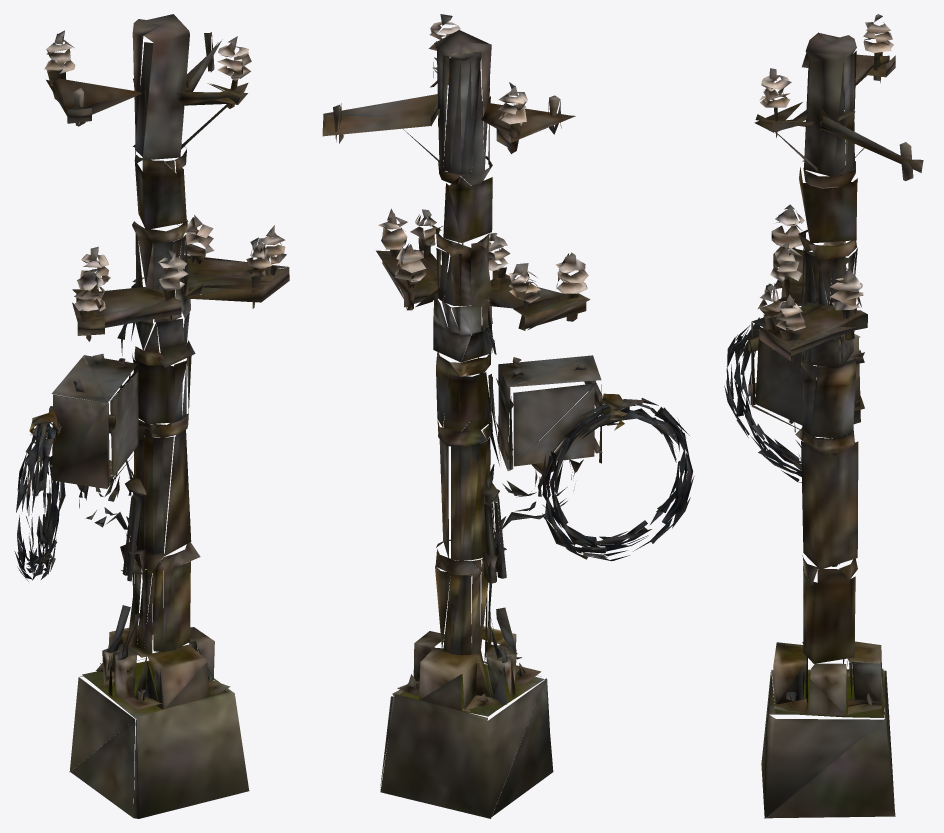
Rendered from pole-far.glb.
3 views of the same model, side by side, from view 1: azimuth 30°, elevation 25°; view 2: azimuth 150°, elevation 25°; view 3: azimuth 270°, elevation 25° (orthographic). The views are drawn at different scales.
Visible parts, largest first — view 1: pole; view 2: pole; view 3: pole.
Boxes of the visible parts, x1=… form: pole: x1=14, y1=14, x2=289, y2=818; pole: x1=322, y1=14, x2=694, y2=818; pole: x1=724, y1=14, x2=923, y2=818.
Bounding box in the file's own units: 3.33 × 8.01 × 1.99.
Materials: 1 (1 with a texture image).
